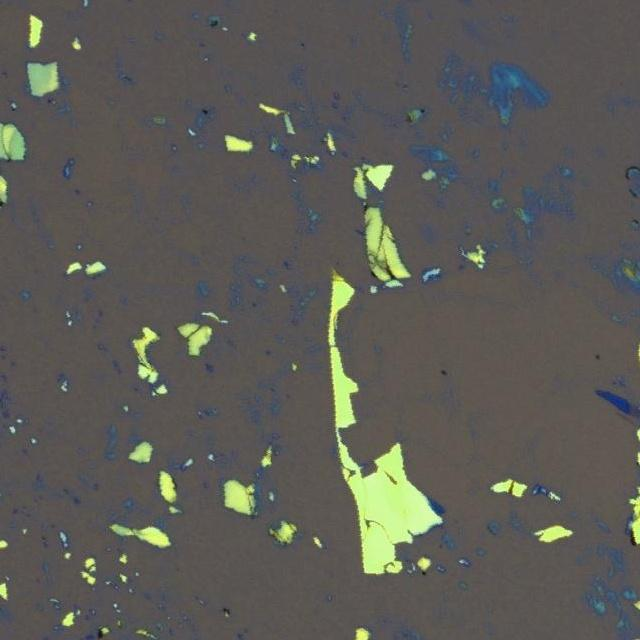monolayer-eWW4: (630, 402, 640, 417)
